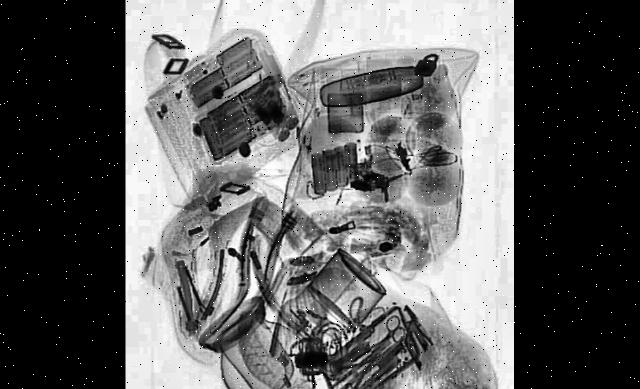Pliers: (329, 338, 381, 389)
Scissors: (367, 308, 404, 360)
